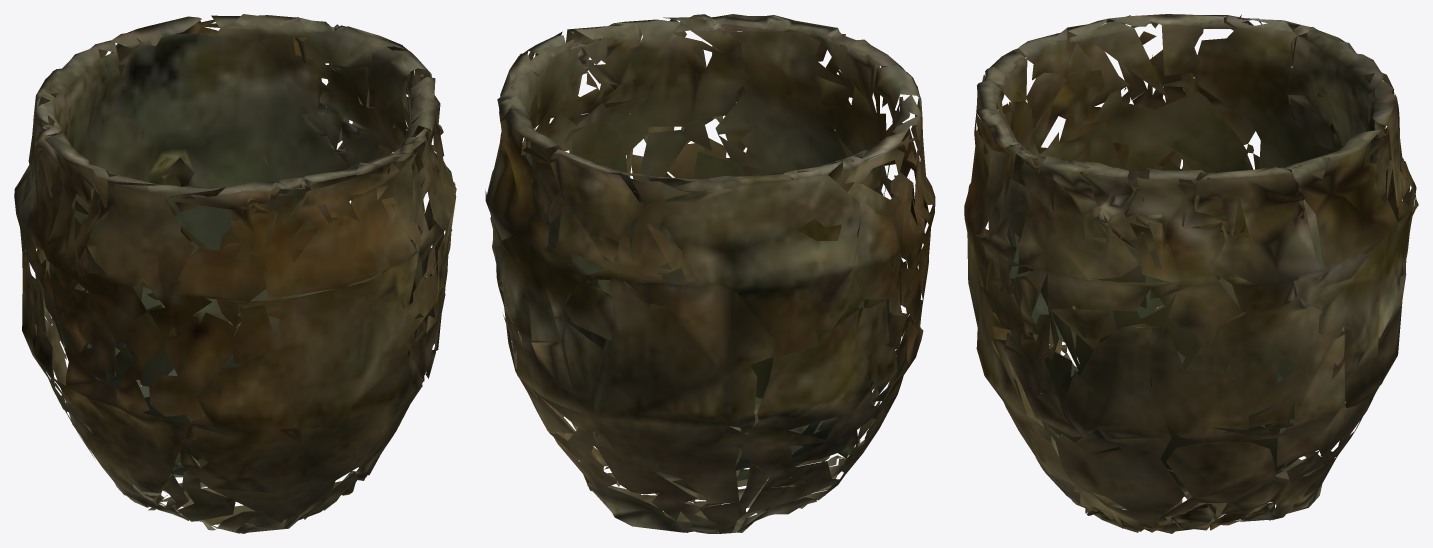
File: hm-tripartite-bowl-food-vessel.lod1.glb
3 views of the same model, side by side, from view 1: azimuth 30°, elevation 25°; view 2: azimuth 150°, elevation 25°; view 3: azimuth 270°, elevation 25° (orthographic). The views are drawn at different scales.
Parts seen in each view (by area): view 1: Object_2, Object_5, Object_3, Object_4, Object_6; view 2: Object_2, Object_4, Object_3, Object_5, Object_6; view 3: Object_3, Object_4, Object_5, Object_2, Object_6.
Boxes of the visible parts, x1,y1,x2,y2 form: Object_2: [14, 14, 437, 522]; Object_5: [43, 27, 456, 530]; Object_3: [17, 23, 434, 533]; Object_4: [26, 16, 456, 533]; Object_6: [50, 77, 455, 521]; Object_2: [485, 92, 910, 532]; Object_4: [511, 31, 931, 533]; Object_3: [486, 31, 904, 520]; Object_5: [534, 19, 935, 532]; Object_6: [566, 14, 921, 507]; Object_3: [964, 15, 1413, 501]; Object_4: [980, 14, 1412, 530]; Object_5: [974, 22, 1418, 533]; Object_2: [964, 18, 1416, 482]; Object_6: [976, 15, 1388, 532].
Size of the model in its own units: 0.1562 by 0.1531 by 0.1555.
1 material, 1 textured.
